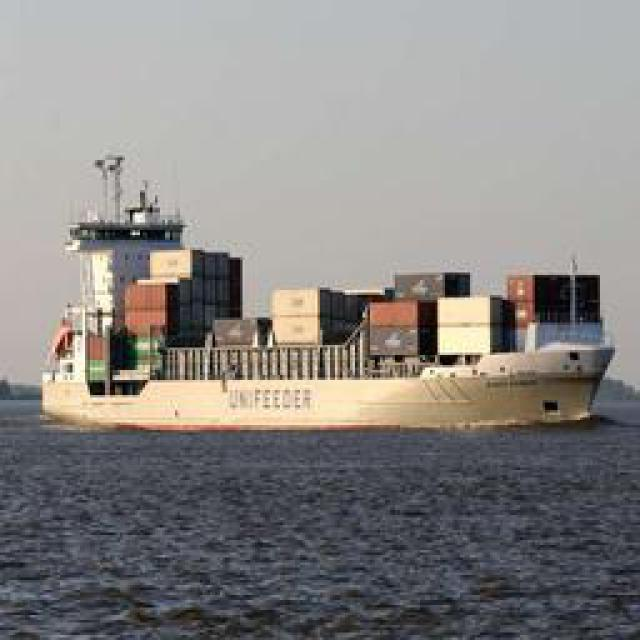Ship: (26, 247, 621, 437)
